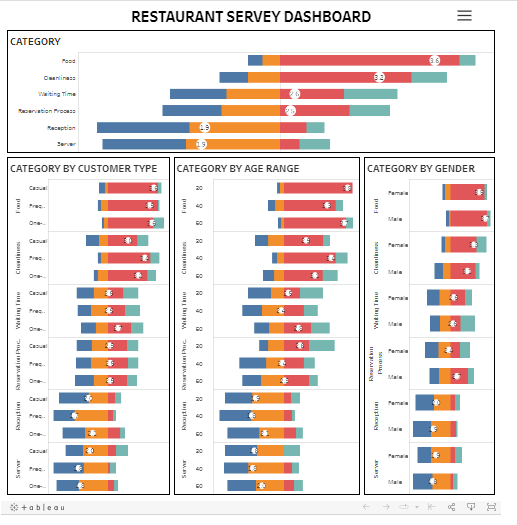

The page's visual inventory and layout, read from the dashboard file:
{"tool":"tableau","page":{"name":"Dashboard 1","canvas":[1000,1000],"ordinal":0},"visuals":[{"type":"text","box":[8,8,984,72.8]},{"type":"legend","title":"Category","param":"[federated.0zucvyy1h93q9s100xqsx03qvmra].[none:Answer:nk]","box":[8,80.8,984,41.4]},{"type":"worksheet","title":"Category","mark":"GanttBar","rows":["Category"],"cols":["Score"],"box":[8,122.2,984,265.2]},{"type":"worksheet","title":"Category by customer type","mark":"GanttBar","rows":["Category","Type of Customer"],"cols":["Score"],"box":[8,387.4,333.2,604.6]},{"type":"worksheet","title":"Category by age range","mark":"GanttBar","rows":["Category","Age (bin)"],"cols":["Score"],"box":[341.2,387.4,380.9,604.6]},{"type":"worksheet","title":"Category by gender","mark":"GanttBar","rows":["Category","Gender"],"cols":["Score"],"box":[722.1,387.4,269.9,604.6]}]}

Visuals, with their boxes in screenshot pixels (x1, y1, x2, y2):
text: region(8, 0, 492, 8)
"Category" legend: region(8, 8, 492, 29)
"Category" worksheet (GanttBar marks): region(8, 29, 492, 159)
"Category by customer type" worksheet (GanttBar marks): region(8, 159, 172, 456)
"Category by age range" worksheet (GanttBar marks): region(172, 159, 359, 456)
"Category by gender" worksheet (GanttBar marks): region(359, 159, 492, 456)
